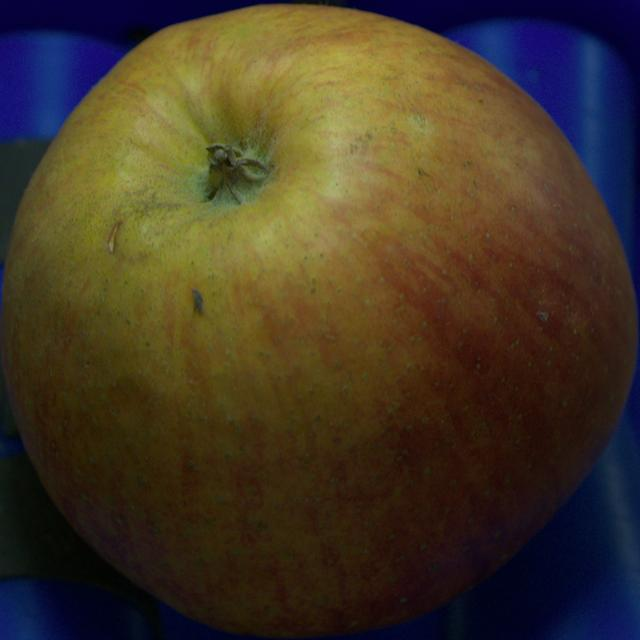apple: (0, 4, 638, 637)
bruise: (103, 375, 159, 435)
pest: (192, 289, 203, 314)
scratch: (108, 221, 122, 253)
